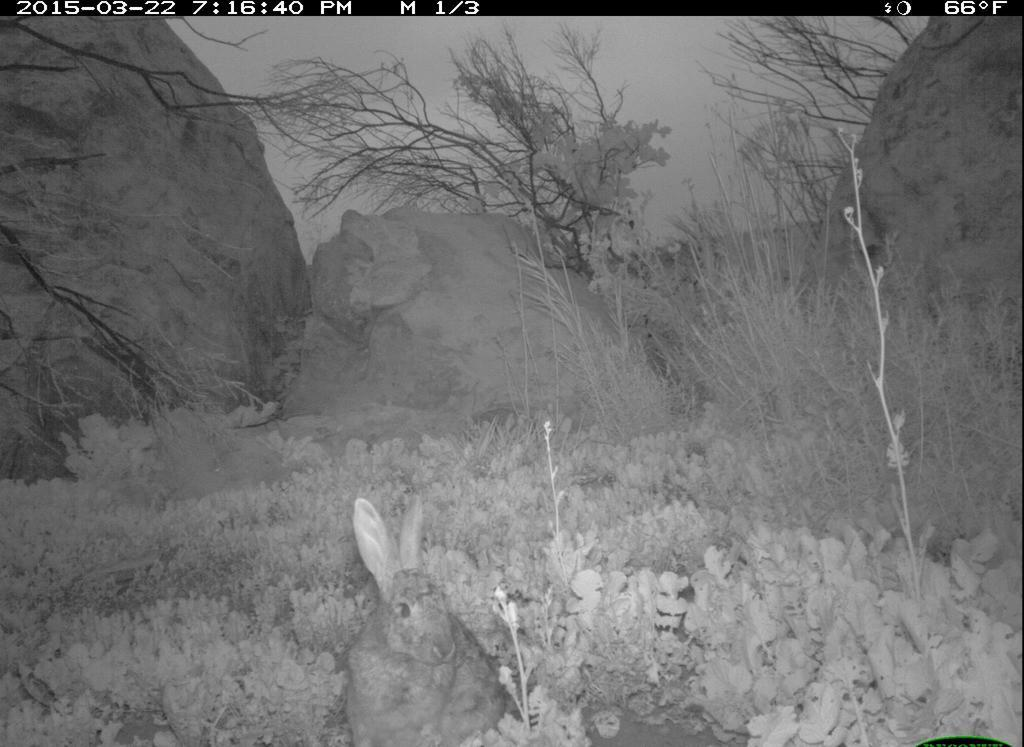rabbit: (335, 492, 519, 747)
